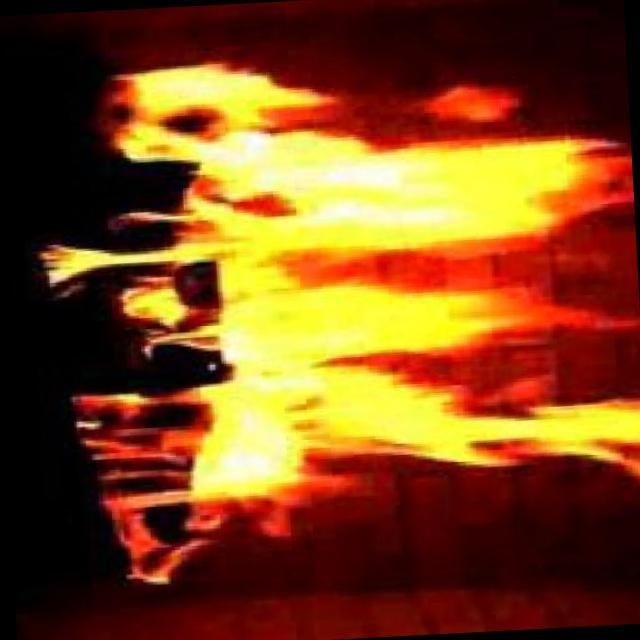Fire: (128, 59, 633, 500)
